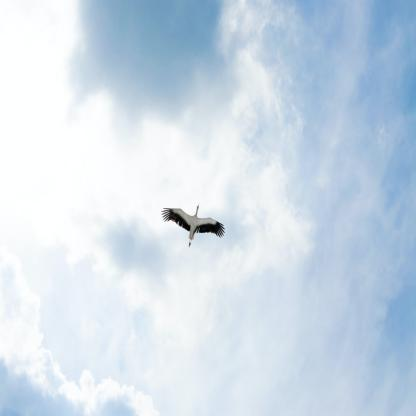bird: (161, 202, 226, 249)
